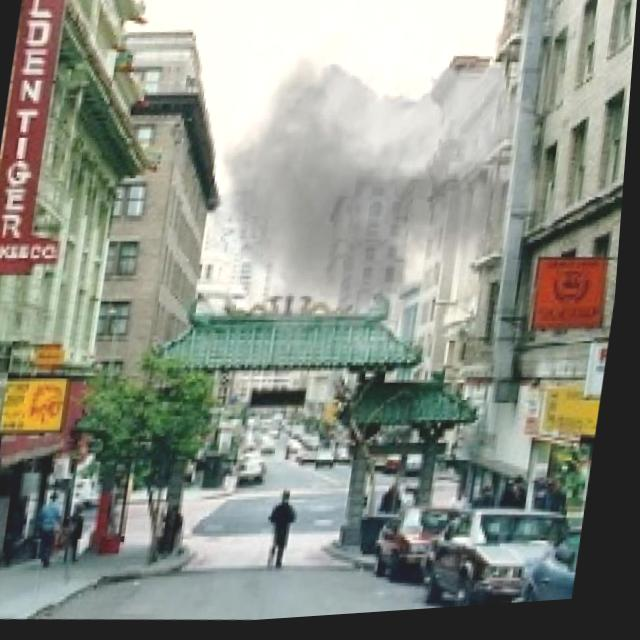Smoke: (169, 0, 573, 384)
